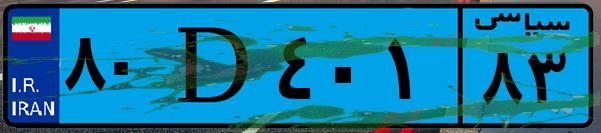0: (330, 28, 385, 110), (110, 28, 158, 98)
1: (385, 28, 445, 110)
3: (525, 38, 570, 115)
4: (270, 28, 330, 110)
8: (57, 26, 110, 100), (475, 38, 525, 113)
D: (158, 12, 270, 120)
